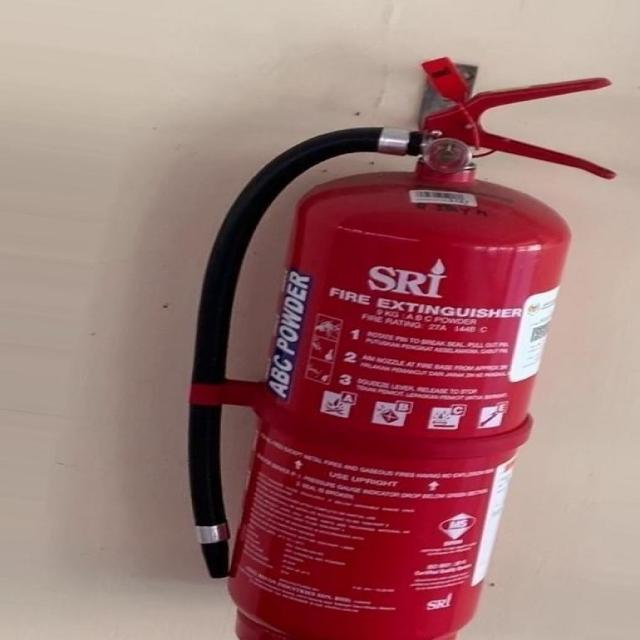fire_extinguisher: (172, 53, 624, 639)
